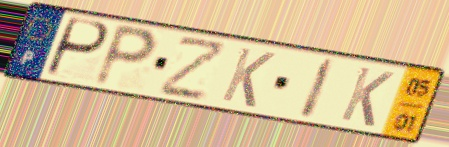I: (296, 55, 339, 123)
K: (337, 64, 397, 130), (218, 44, 278, 110)
P: (89, 21, 161, 90), (41, 15, 113, 80)
Z: (157, 36, 231, 103)
